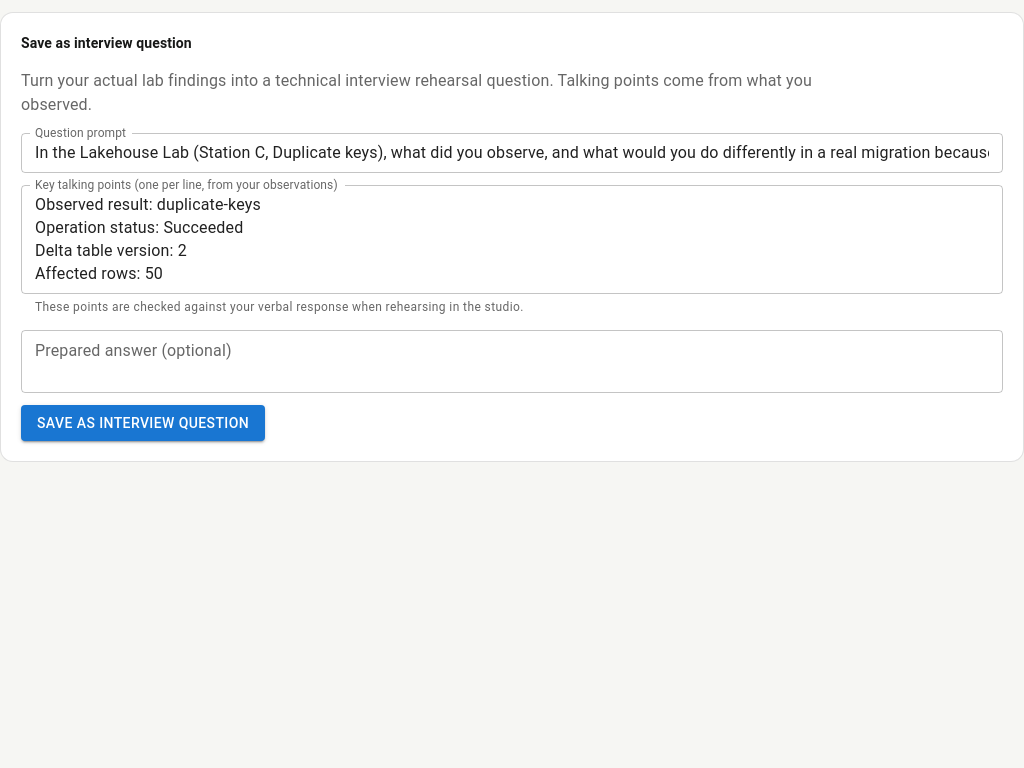
Test: SaveAsInterviewQuestion › saves via PUT /interview-questions/by-source and shows success note
Type "My rehearsed answer." into the text box labelled "Prepared answer (optional)".
click(512, 361); type("My rehearsed answer.")  # box [35,338,989,384]
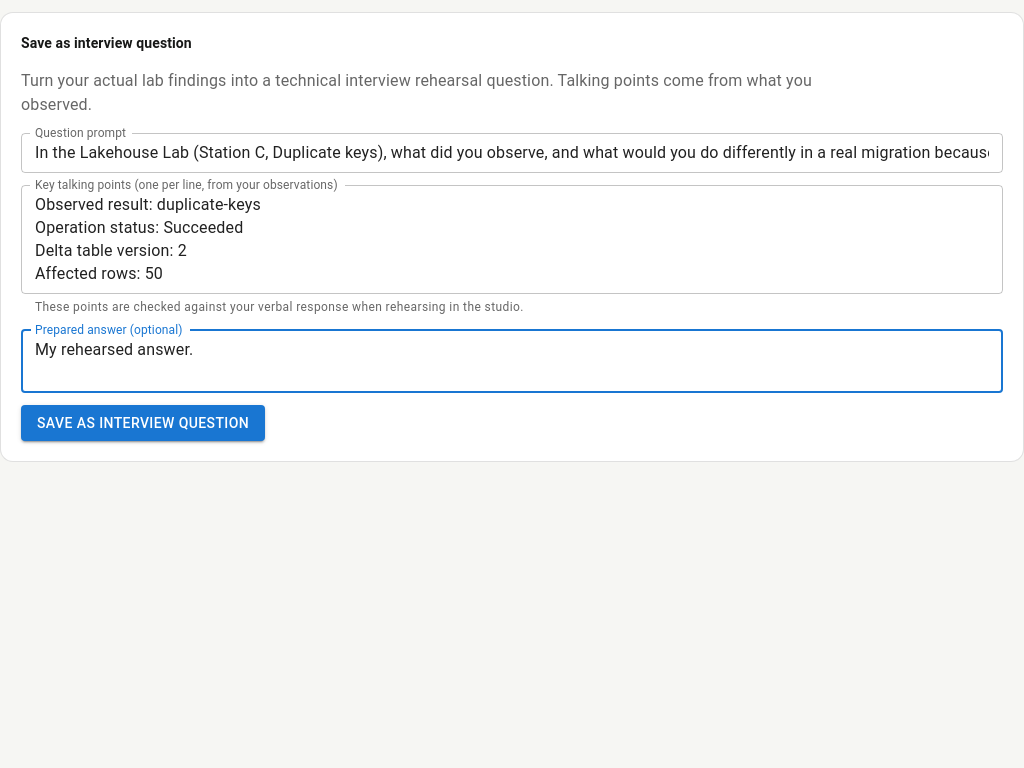
Click the button "Save as interview question".
click(143, 423)  # box [21,405,265,441]
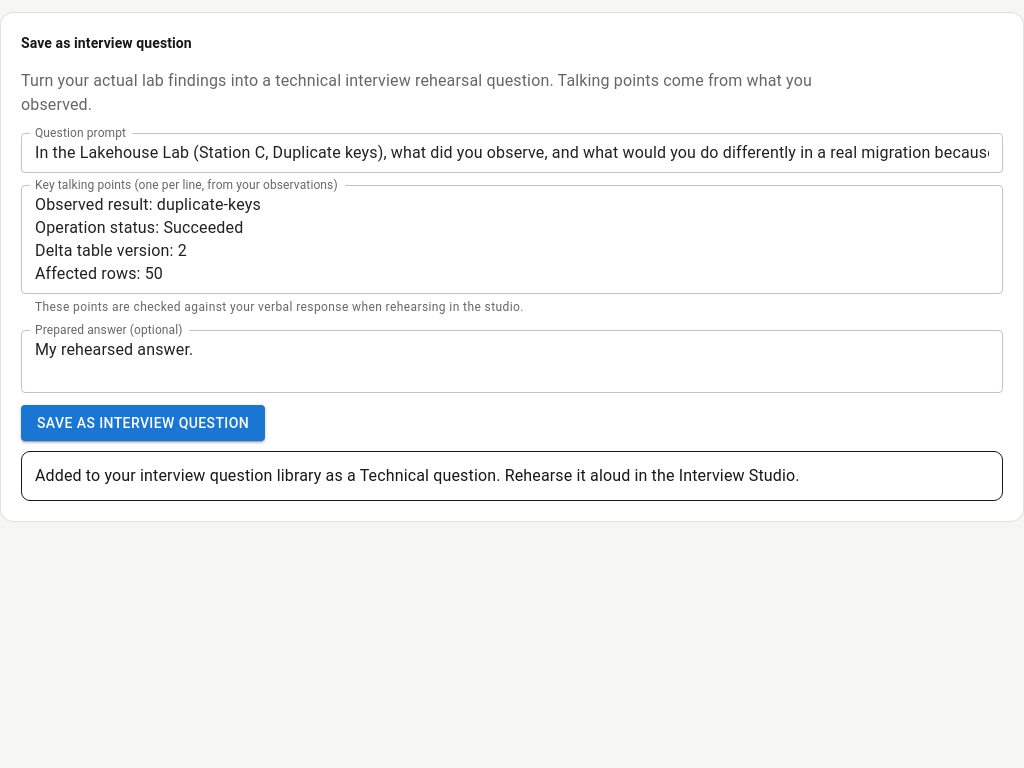
Expected: the text "Added to your interview question library" is shown, [35,466,800,485]
